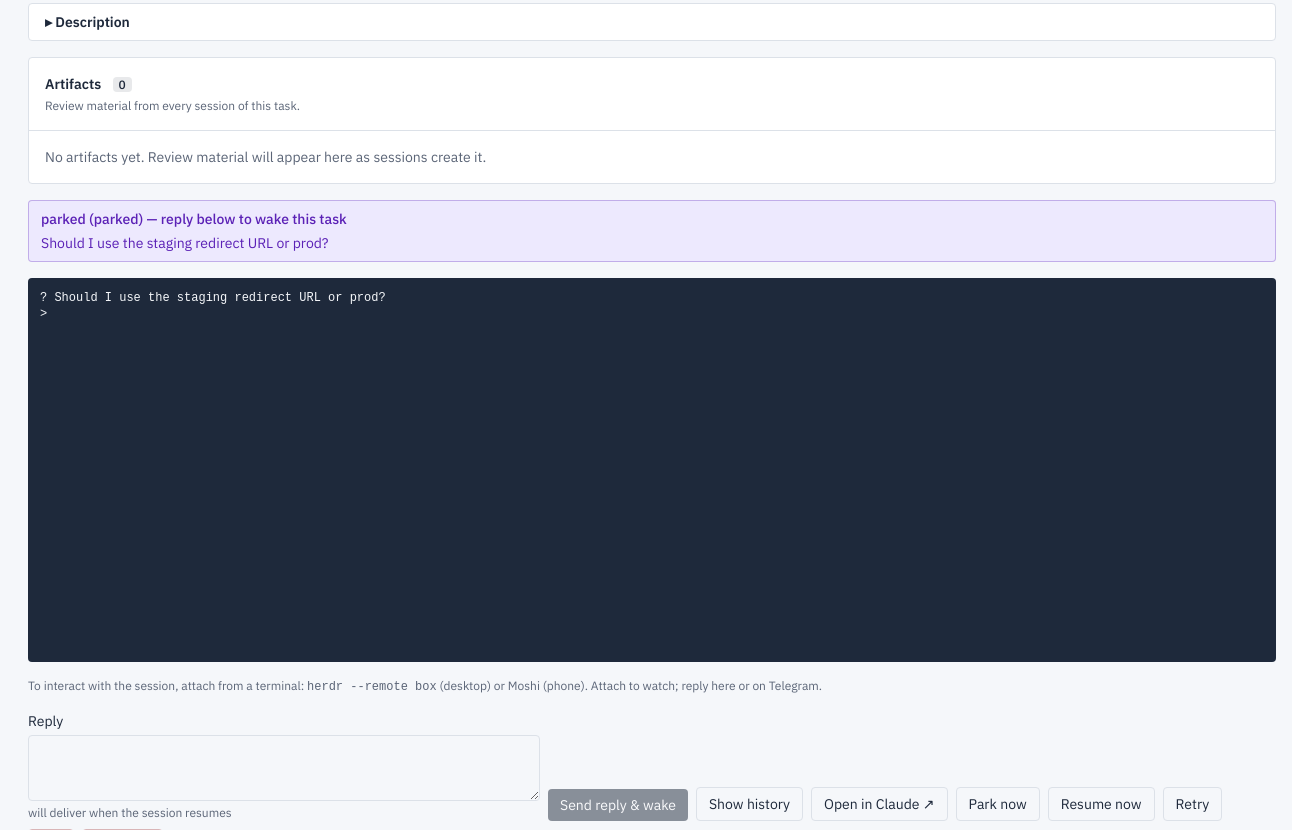
Scenario: reply POSTs the text and refetches pending intents — no optimistic state flip
The image size is (1292, 830).
(page scrolled)
Type "use staging" into the text box labelled "Reply" at point(284, 768), box [28, 735, 540, 801]
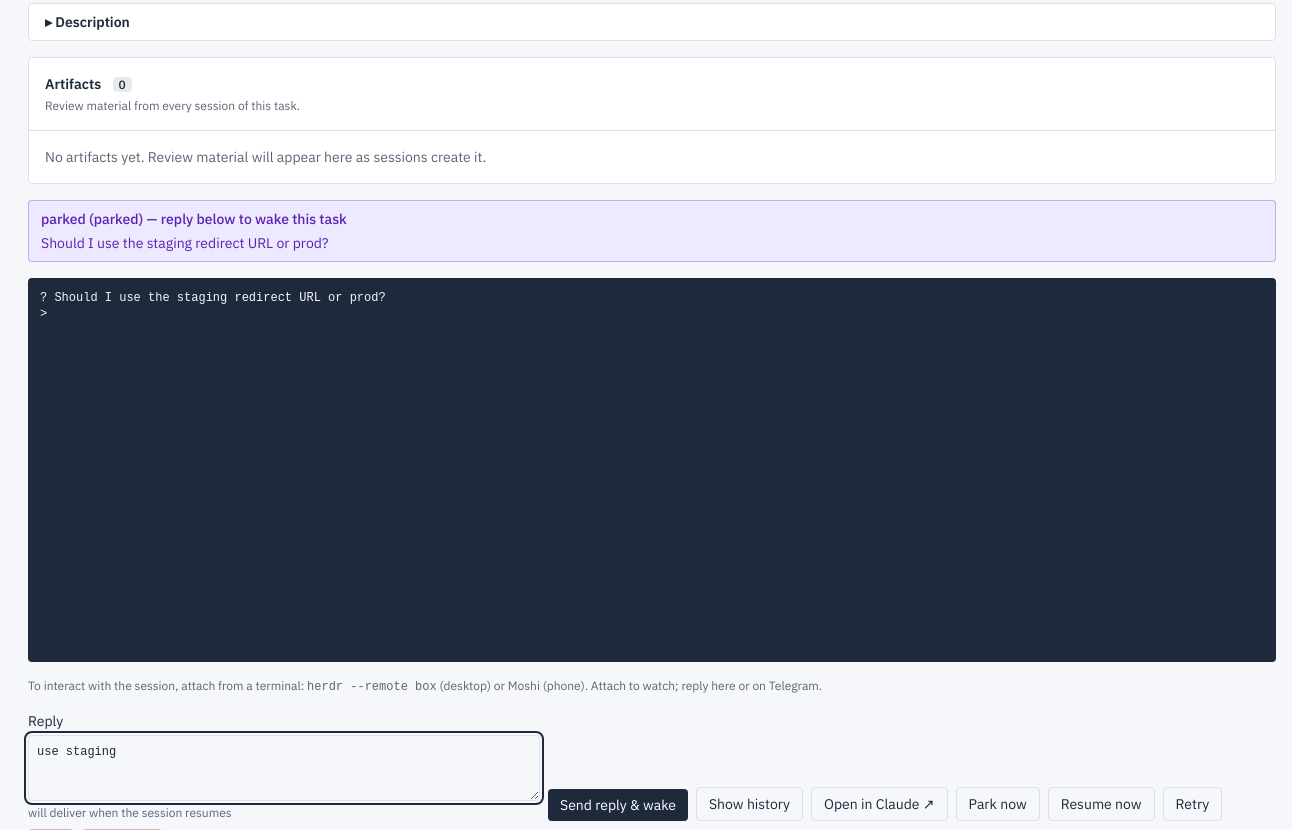
Click the button "Send reply & wake" at point(618, 805), box [548, 789, 688, 821]
(page scrolled)
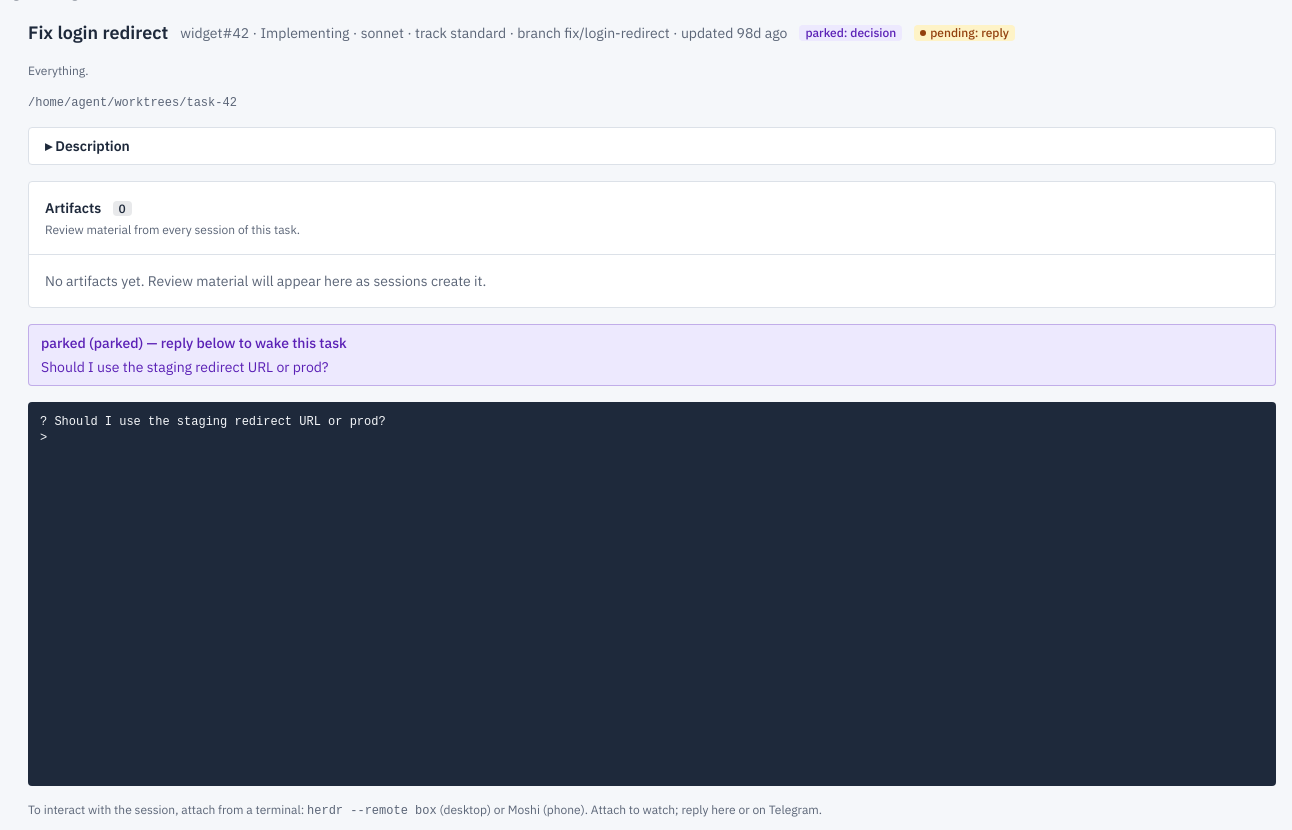
Expected: the text "parked: decision" is shown, [799, 25, 902, 41]
Expected: the element with test id "pending-badge" is shown, [914, 25, 1015, 41]
